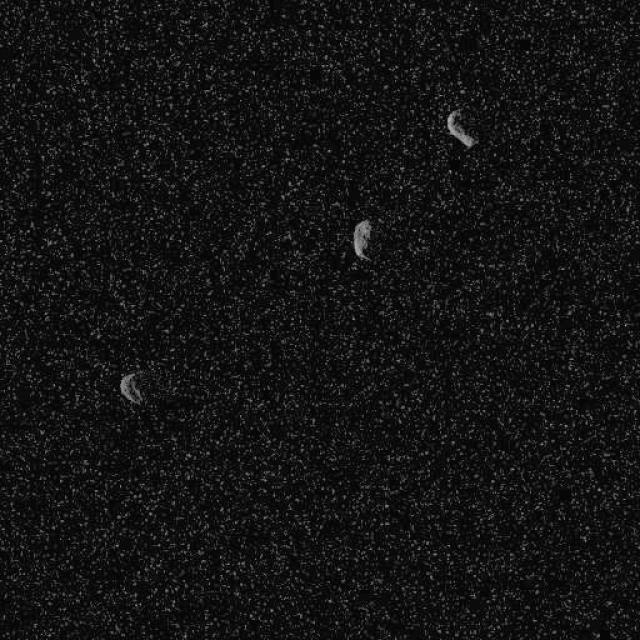D2: (445, 108, 477, 148), (352, 219, 372, 261), (119, 371, 142, 405)
